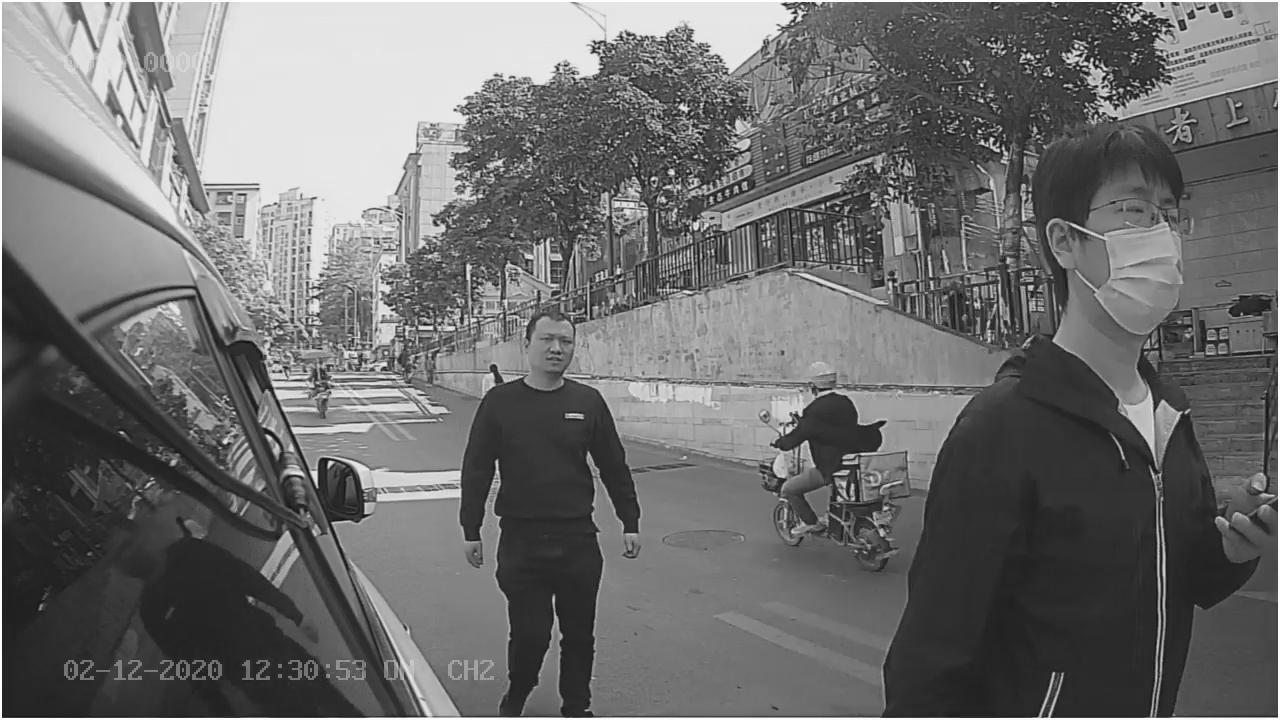person: (915, 117, 1280, 585), (444, 304, 645, 572)
